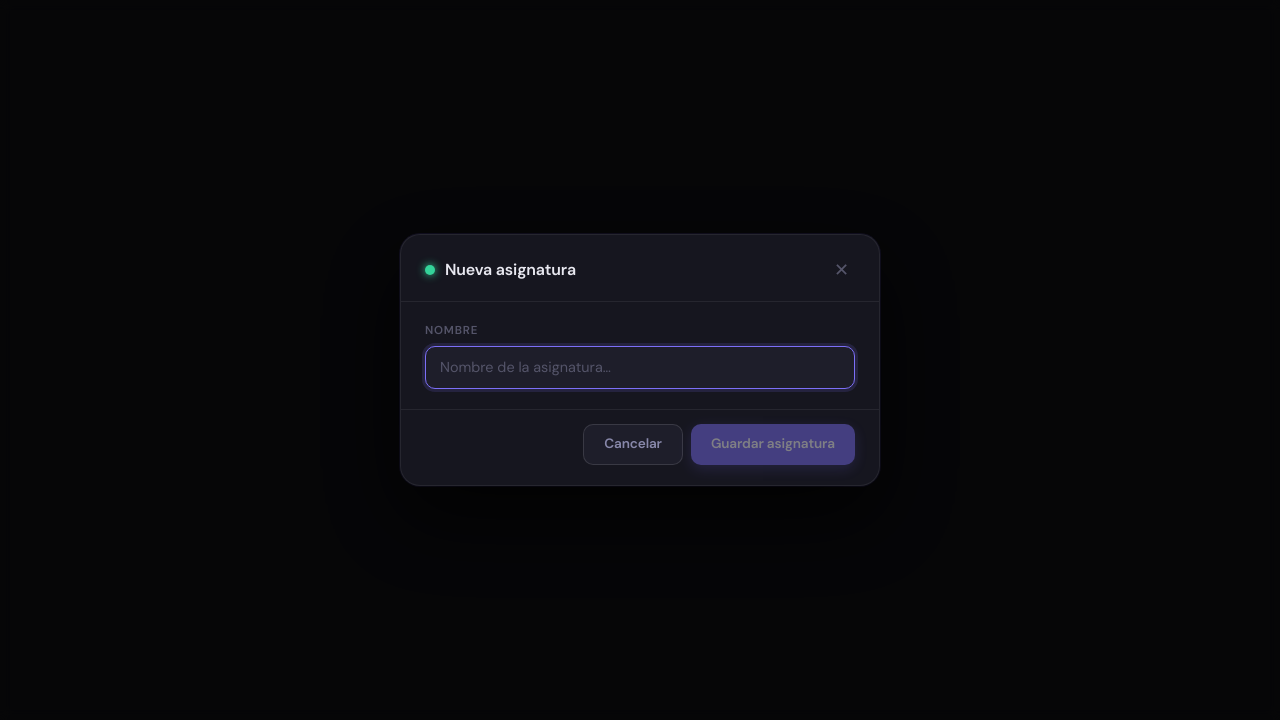
AddSubjectDialog - botón guardar › se habilita al escribir un nombre
Type "Física" into the field with placeholder "Nombre de la asignatura…". click: (640, 367)
box: [425,346,855,389]
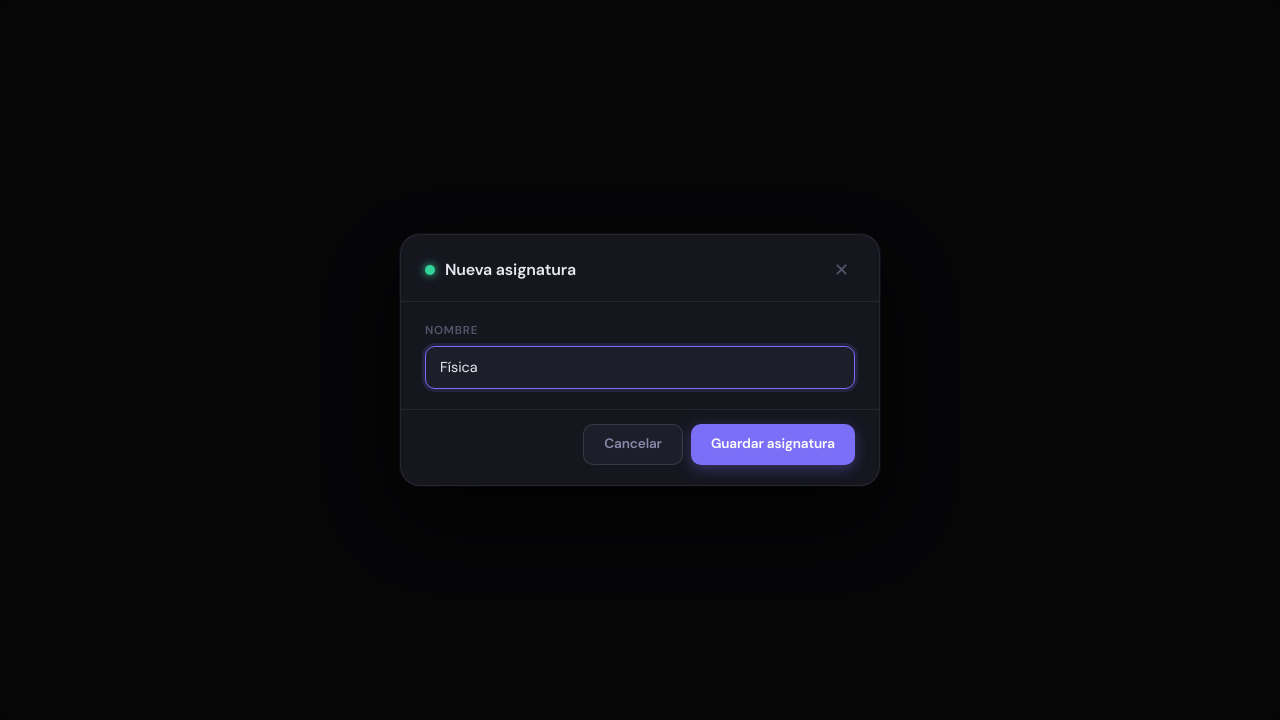
Check: the button "Guardar asignatura" is enabled, box [691,424,855,465]
